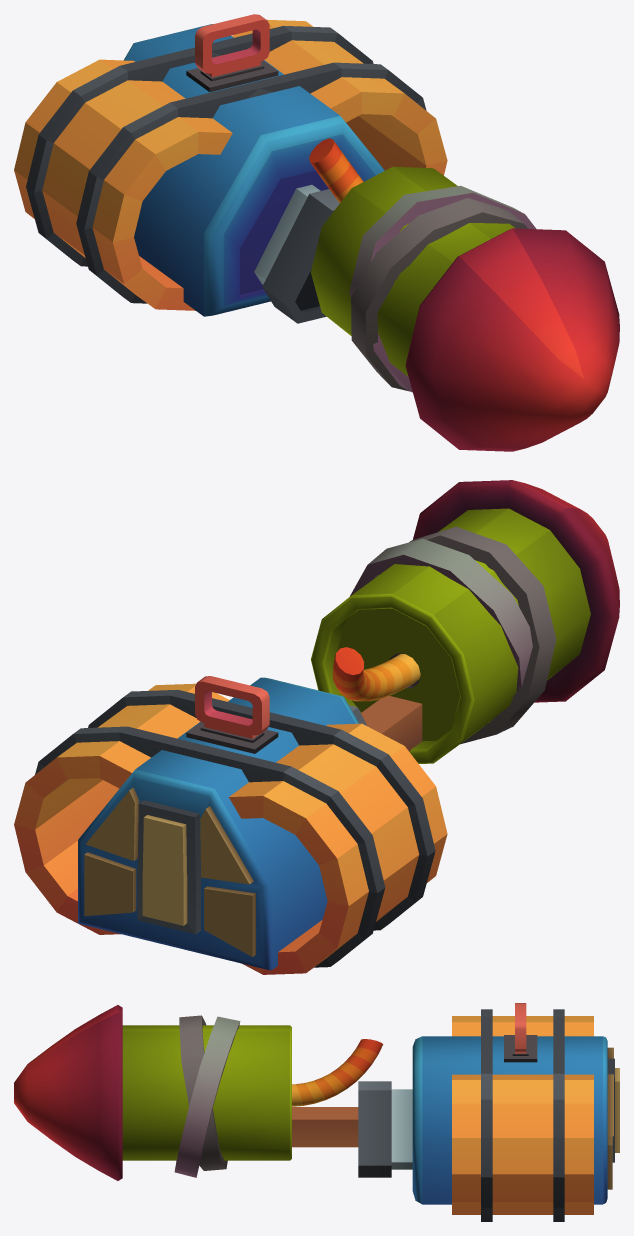
Rendered from Gun2.fbx.
3 views of the same model, one above another, from view 1: azimuth 30°, elevation 25°; view 2: azimuth 150°, elevation 25°; view 3: azimuth 270°, elevation 25° (orthographic). The views are drawn at different scales.
Visible parts, largest first — view 1: Gun2, Cylinder.001; view 2: Gun2, Cylinder.001; view 3: Gun2, Cylinder.001.
Boxes of the visible parts, x1=… form: Gun2: x1=14, y1=14, x2=447, y2=323; Cylinder.001: x1=309, y1=138, x2=619, y2=451; Gun2: x1=14, y1=676, x2=447, y2=974; Cylinder.001: x1=311, y1=480, x2=619, y2=763; Gun2: x1=358, y1=1003, x2=619, y2=1221; Cylinder.001: x1=14, y1=1005, x2=383, y2=1180.
Bounding box in the file's own units: 99.44 × 65.26 × 207.
